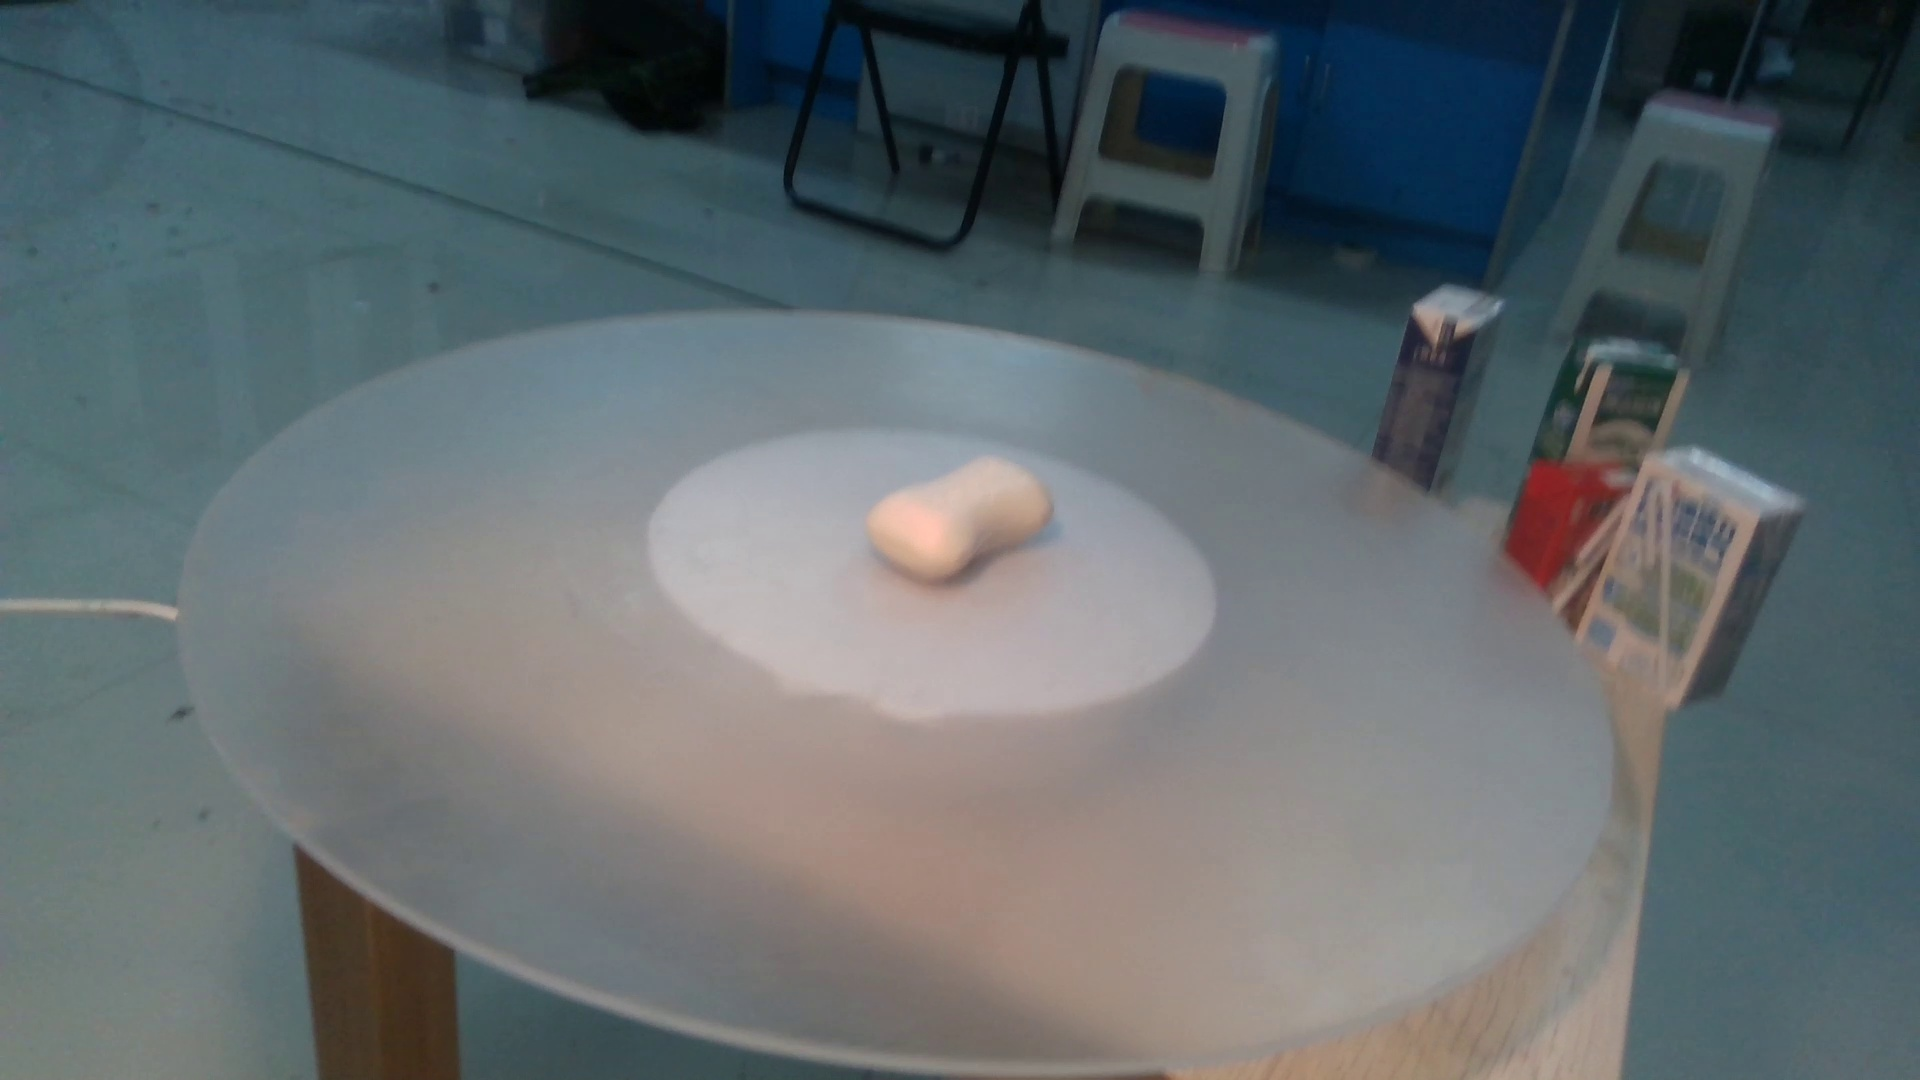CA003_1: (847, 443, 1083, 589)
